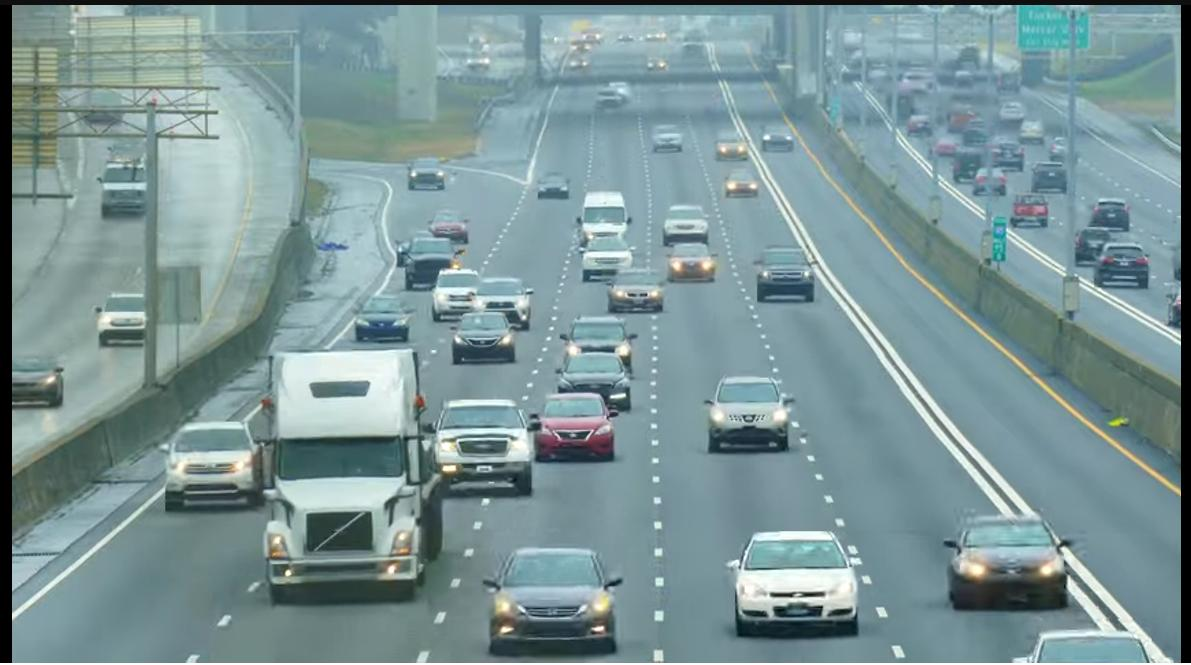car: (733, 516, 909, 633), (167, 403, 263, 538), (83, 283, 180, 376), (400, 139, 476, 207), (716, 113, 767, 174), (1096, 240, 1161, 284), (1097, 176, 1139, 233), (997, 127, 1036, 175)
truck: (260, 352, 459, 606)
van: (96, 130, 183, 245), (567, 182, 656, 245)
